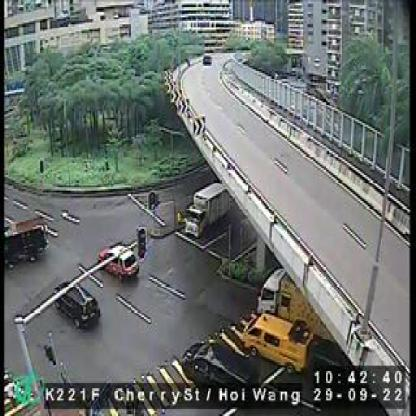Car: (178, 336, 259, 397), (239, 312, 313, 376), (47, 277, 107, 331), (95, 239, 140, 279)
Truck: (255, 258, 346, 343), (181, 180, 230, 238), (4, 210, 47, 267)
